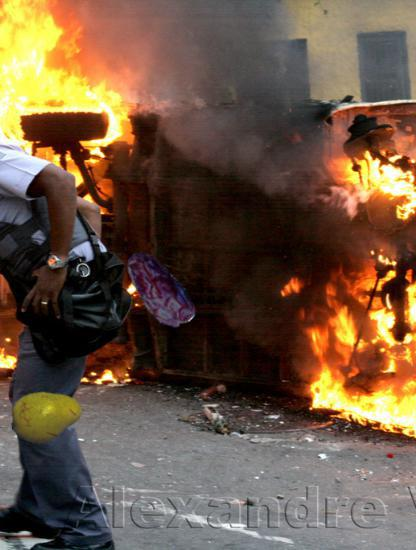Dates: (115, 247, 203, 335)
Pear: (11, 380, 85, 454)
